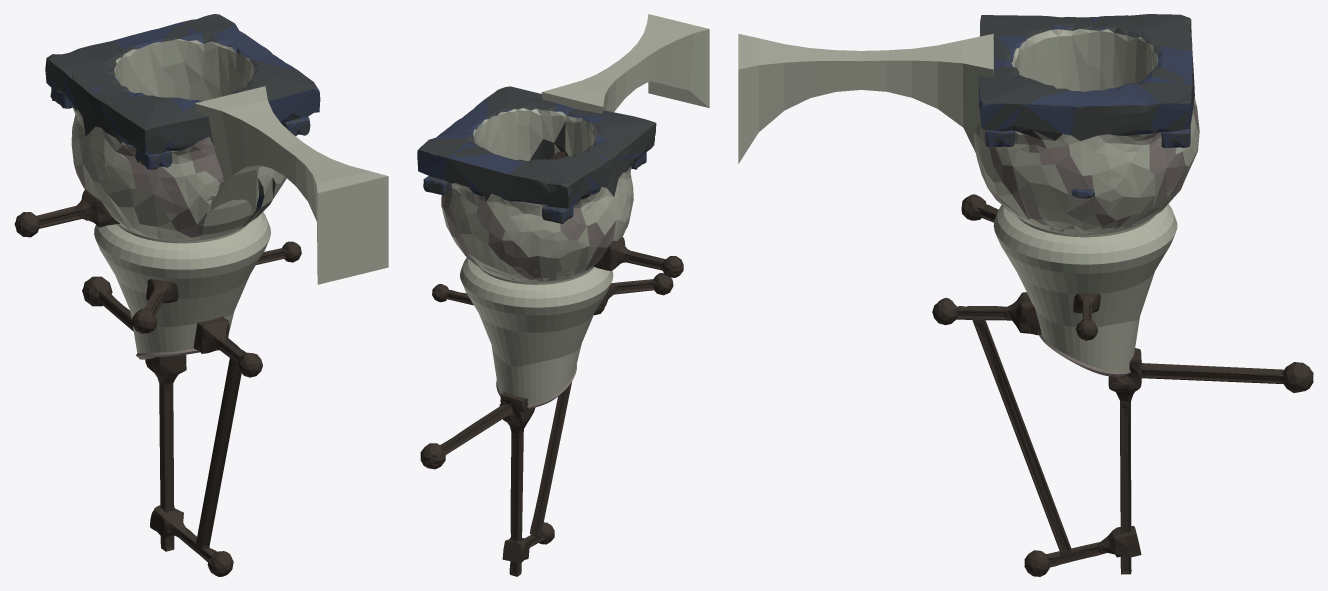
File: FloatingExtention.obj
3 renders of one model, left to right at view 1: azimuth 30°, elevation 25°; view 2: azimuth 150°, elevation 25°; view 3: azimuth 270°, elevation 25°, orthographic. The views are drawn at different scales.
Visible parts, largest first — view 1: Cube.003_Cube; view 2: Cube.003_Cube; view 3: Cube.003_Cube.
Part boxes in pixels (x1=…): Cube.003_Cube: x1=14, y1=14, x2=388, y2=576; Cube.003_Cube: x1=417, y1=14, x2=709, y2=576; Cube.003_Cube: x1=738, y1=14, x2=1313, y2=576.
Bounding box in the file's own units: 3.12 × 5.24 × 5.25.
